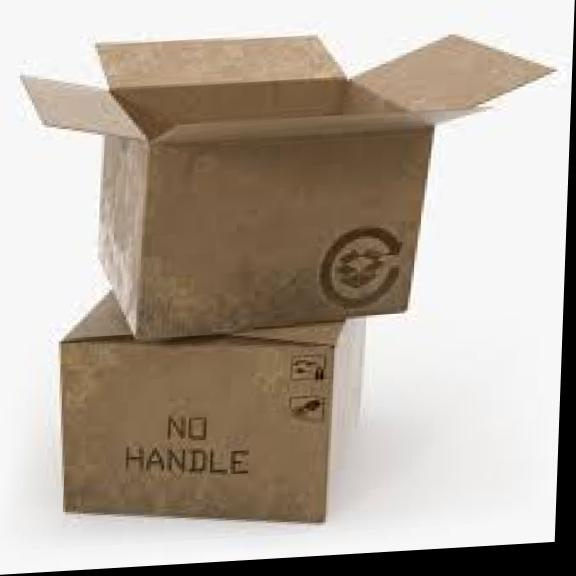Kertas: (51, 273, 367, 540), (64, 295, 361, 517)
